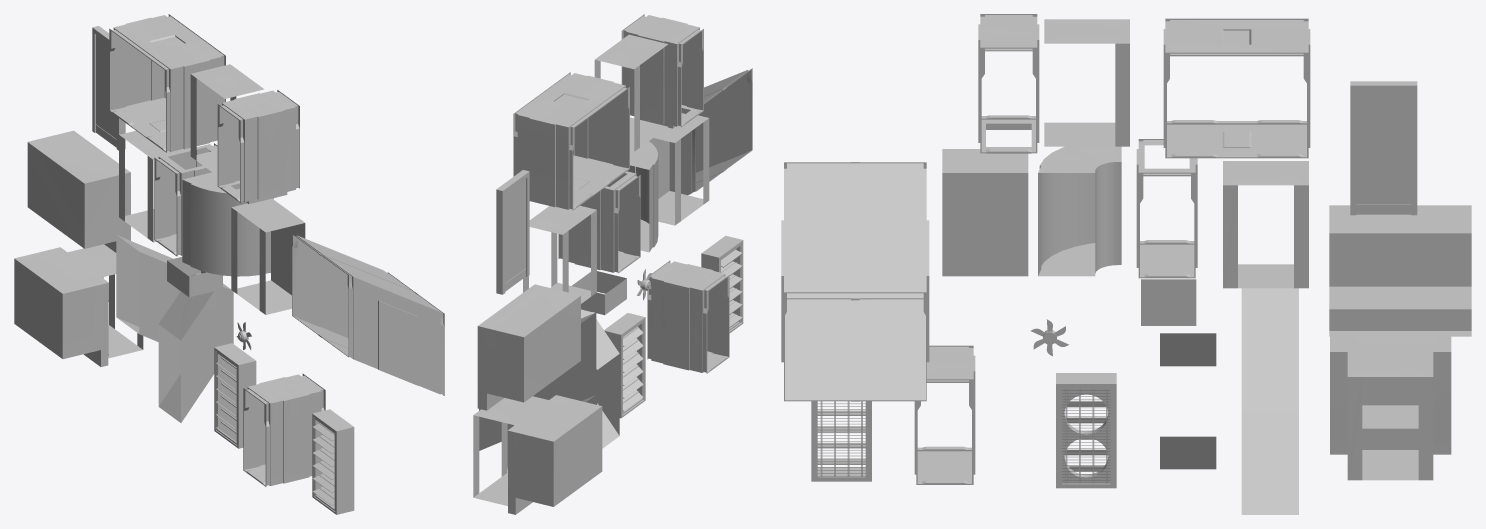
The model's file is VentsPack1.fbx.
3 renders of one model, left to right at view 1: azimuth 30°, elevation 25°; view 2: azimuth 150°, elevation 25°; view 3: azimuth 270°, elevation 25°, orthographic. The views are drawn at different scales.
Visible parts, largest first — view 1: vent_30_double.mo, vent_double_straight.mo, vent_alcove_a.mo, vent_alcove_b.mo, vent_open_bottom.mo, vent_straight_a.mo, vent_corner_a.mo, vent_crouch.mo, vent_30_stright.mo, vent_L.mo, vent_grate.mo, vent_open_top.mo (+6 smaller); view 2: vent_double_straight.mo, vent_alcove_a.mo, vent_alcove_b.mo, vent_straight_a.mo, vent_open_bottom.mo, vent_30_double.mo, vent_open_top.mo, vent_L.mo, vent_30_stright.mo, vent_fan.mo, vent_X.mo, vent_open.mo (+6 smaller); view 3: vent_30_double.mo, vent_alcove_b.mo, vent_alcove_a.mo, vent_30_stright.mo, vent_double_straight.mo, vent_L.mo, vent_corner_a.mo, vent_door_door.mo, vent_X.mo, vent_fan.mo, vent_open.mo, vent_straight_a.mo (+6 smaller).
Boxes of the visible parts, left/top/right/bottom form: vent_30_double.mo: left=292, top=233, right=444, bottom=395; vent_double_straight.mo: left=109, top=14, right=225, bottom=152; vent_alcove_a.mo: left=14, top=244, right=143, bottom=366; vent_alcove_b.mo: left=27, top=130, right=130, bottom=252; vent_open_bottom.mo: left=217, top=90, right=299, bottom=203; vent_straight_a.mo: left=243, top=373, right=325, bottom=486; vent_corner_a.mo: left=182, top=172, right=273, bottom=276; vent_crouch.mo: left=158, top=274, right=215, bottom=422; vent_30_stright.mo: left=116, top=235, right=233, bottom=346; vent_L.mo: left=231, top=198, right=305, bottom=314; vent_grate.mo: left=312, top=409, right=354, bottom=514; vent_open_top.mo: left=154, top=143, right=217, bottom=256; vent_double_straight.mo: left=513, top=72, right=629, bottom=210; vent_alcove_a.mo: left=473, top=395, right=602, bottom=514; vent_alcove_b.mo: left=477, top=284, right=580, bottom=410; vent_straight_a.mo: left=647, top=260, right=729, bottom=373; vent_open_bottom.mo: left=621, top=14, right=703, bottom=128; vent_30_double.mo: left=669, top=68, right=752, bottom=195; vent_open_top.mo: left=558, top=171, right=640, bottom=273; vent_L.mo: left=649, top=113, right=709, bottom=225; vent_30_stright.mo: left=479, top=312, right=596, bottom=450; vent_fan.mo: left=604, top=313, right=645, bottom=418; vent_X.mo: left=523, top=205, right=596, bottom=303; vent_open.mo: left=594, top=34, right=668, bottom=151; vent_30_double.mo: left=781, top=162, right=929, bottom=401; vent_alcove_b.mo: left=1329, top=205, right=1471, bottom=336; vent_alcove_a.mo: left=1330, top=336, right=1451, bottom=480; vent_30_stright.mo: left=1241, top=288, right=1298, bottom=514; vent_double_straight.mo: left=1163, top=18, right=1310, bottom=158; vent_L.mo: left=942, top=149, right=1028, bottom=276; vent_corner_a.mo: left=1038, top=146, right=1121, bottom=276; vent_door_door.mo: left=1356, top=91, right=1411, bottom=214; vent_X.mo: left=1223, top=161, right=1308, bottom=288; vent_fan.mo: left=1056, top=373, right=1116, bottom=488; vent_open.mo: left=1044, top=19, right=1129, bottom=146; vent_straight_a.mo: left=914, top=345, right=975, bottom=484.
Size of the model in its own units: 496 by 1038 by 1448.
